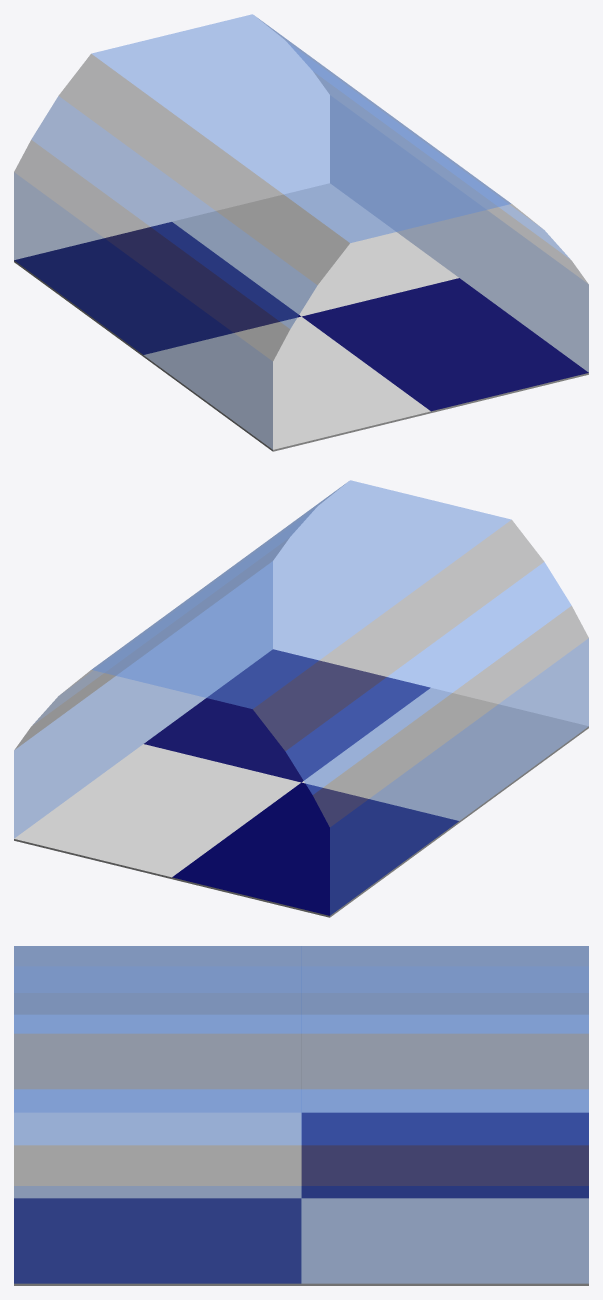
3 renders of one model, top to bottom at view 1: azimuth 30°, elevation 25°; view 2: azimuth 150°, elevation 25°; view 3: azimuth 270°, elevation 25°, orthographic. The views are drawn at different scales.
Parts seen in each view (by area): view 1: root; view 2: root; view 3: root.
Part boxes in pixels (box(x1,y1,x2,y2)): root: box(14, 14, 588, 451); root: box(14, 480, 588, 917); root: box(14, 946, 588, 1285).
Size of the model in its own units: 4.47 by 2.57 by 6.35.
